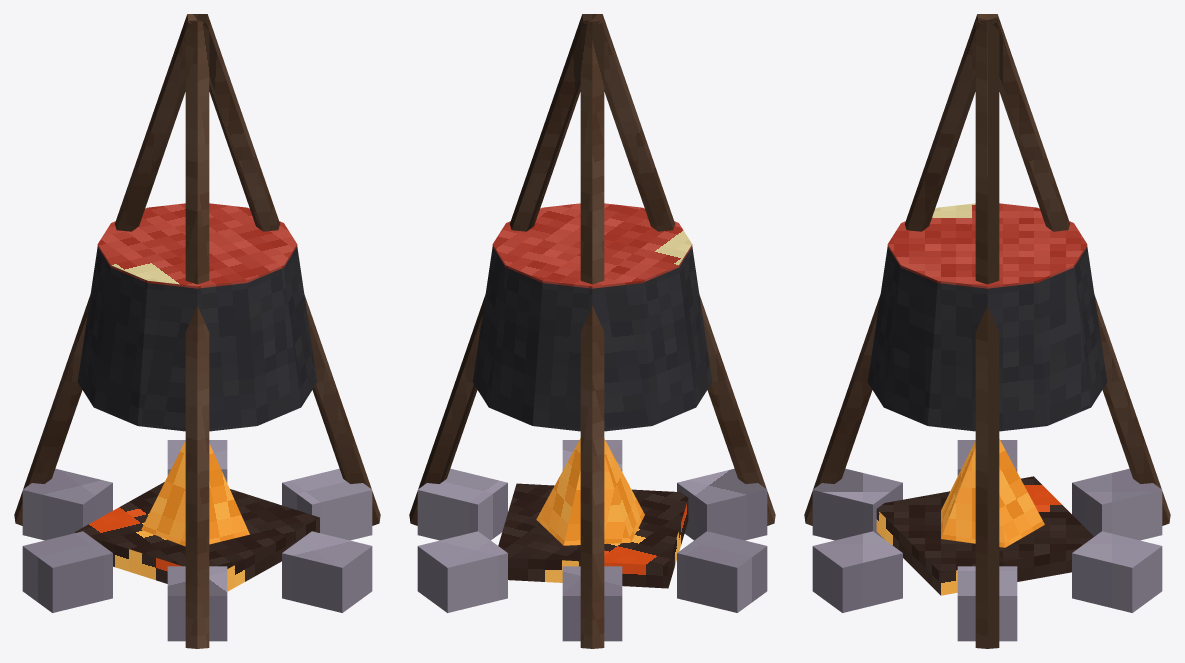
The model's file is cooking_pot.glb.
3 renders of one model, left to right at view 1: azimuth 30°, elevation 25°; view 2: azimuth 150°, elevation 25°; view 3: azimuth 270°, elevation 25°, orthographic.
Parts seen in each view (by area): view 1: body, lamp_on; view 2: body, lamp_on; view 3: body, lamp_on.
Boxes of the visible parts, x1,y1,x2,y2 form: body: (14, 14, 380, 648); lamp_on: (75, 440, 319, 591); body: (409, 14, 775, 648); lamp_on: (498, 438, 688, 588); body: (804, 14, 1170, 648); lamp_on: (876, 439, 1093, 595).
Size of the model in its own units: 0.7937 by 1.21 by 0.7339.
Materials: 6 (6 with a texture image).
